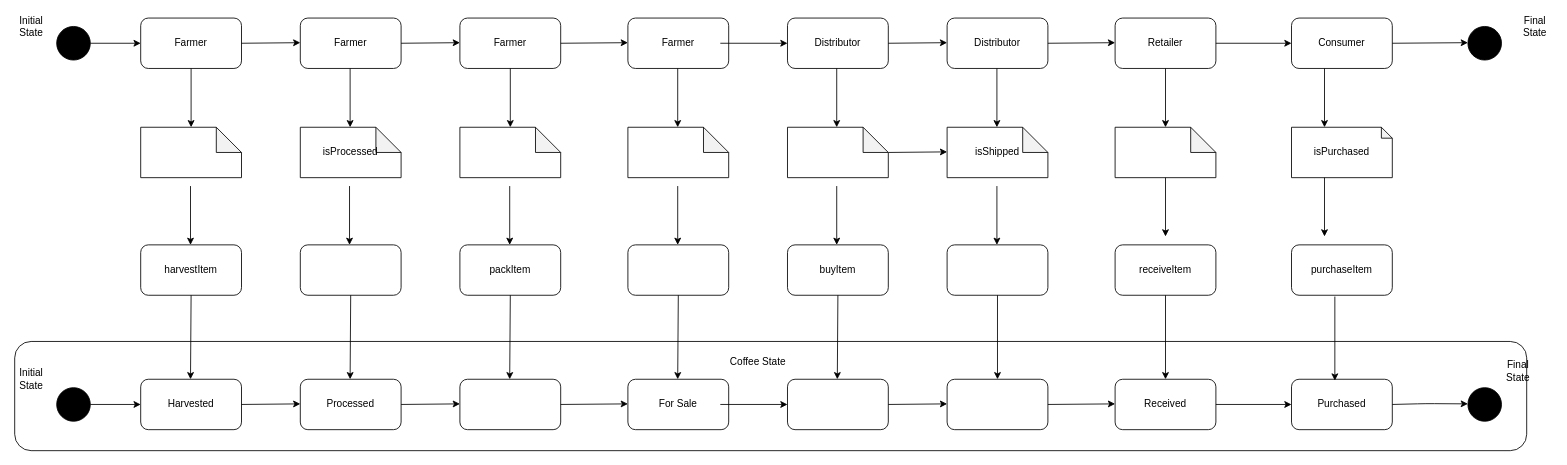
Some shapes in this 1567 by 465 pixel diagram are drawn without their labels. The box of each missing label's shape, as (x1, y1, x2, y2) in pixels:
isForSale: (627, 126, 729, 178)
isHarvested: (140, 126, 242, 178)
isPacked: (459, 126, 561, 178)
isReceived: (1114, 126, 1216, 178)
isSold: (787, 126, 888, 178)
Packed: (459, 378, 561, 430)
processItem: (299, 244, 401, 295)
sellItem: (627, 244, 729, 295)
shipItem: (946, 244, 1048, 295)
Shipped: (946, 378, 1048, 430)
Sold: (787, 378, 888, 430)
